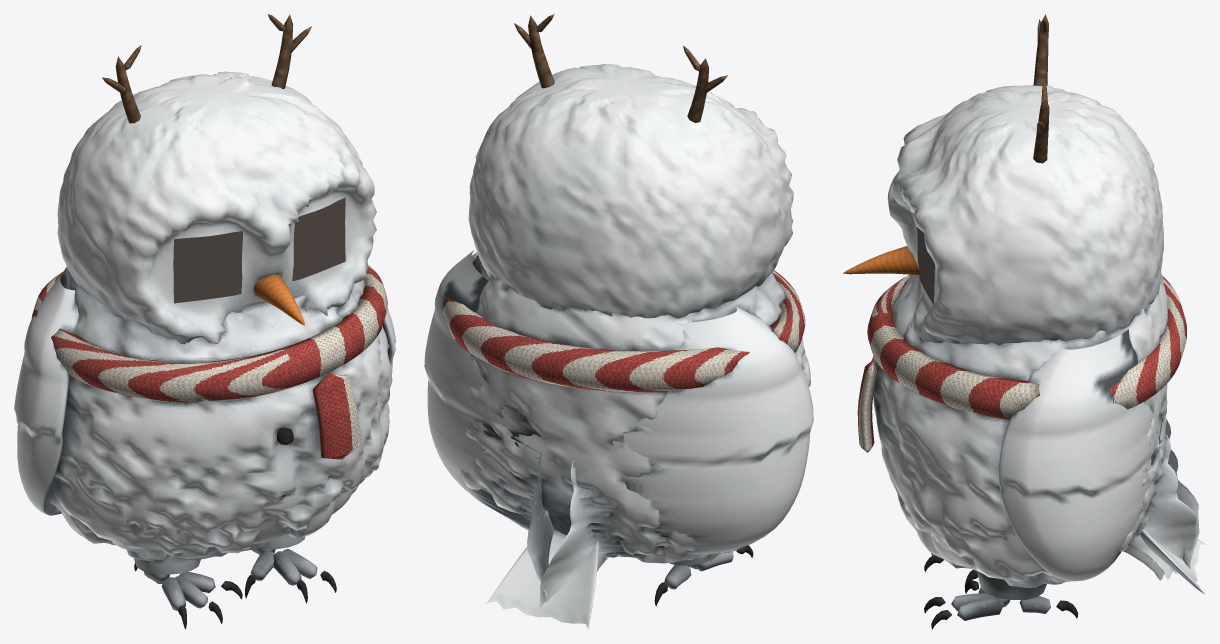
The model's file is snowman.glb.
3 renders of one model, left to right at view 1: azimuth 30°, elevation 25°; view 2: azimuth 150°, elevation 25°; view 3: azimuth 270°, elevation 25°, orthographic.
Parts seen in each view (by area): view 1: head_mesh, body_mesh, scarf_mesh, wing_l_mesh, eye_l, eye_r, scarf_end_mesh, beak_mesh, leg_l_mesh, tuft_ra_mesh, tuft_la_mesh, leg_rt1_mesh (+2 smaller); view 2: head_mesh, wing_l_mesh, body_mesh, scarf_mesh, wing_r_mesh, tail_mesh, tuft_ra_mesh, tuft_la_mesh; view 3: head_mesh, wing_r_mesh, body_mesh, scarf_mesh, beak_mesh, scarf_end_mesh, tail_mesh, leg_r_mesh, wing_l_mesh, eye_r, leg_rt0_mesh, tuft_la_mesh (+1 smaller).
Boxes of the visible parts, box(x1,y1,x2,y2) form: head_mesh: box(57, 71, 376, 344); body_mesh: box(46, 266, 392, 562); scarf_mesh: box(31, 265, 387, 402); wing_l_mesh: box(14, 272, 79, 515); eye_l: box(173, 231, 242, 303); eye_r: box(292, 197, 345, 281); scarf_end_mesh: box(312, 373, 361, 459); beak_mesh: box(253, 274, 305, 325); leg_l_mesh: box(134, 555, 200, 574); tuft_ra_mesh: box(271, 14, 293, 88); tuft_la_mesh: box(115, 56, 140, 123); leg_rt1_mesh: box(273, 551, 301, 585); head_mesh: box(468, 64, 793, 318); wing_l_mesh: box(540, 306, 813, 607); body_mesh: box(460, 255, 810, 563); scarf_mesh: box(442, 252, 805, 392); wing_r_mesh: box(424, 250, 554, 602); tail_mesh: box(486, 529, 598, 629); tuft_ra_mesh: box(528, 15, 554, 88); tuft_la_mesh: box(687, 58, 708, 122); head_mesh: box(887, 85, 1163, 345); wing_r_mesh: box(999, 329, 1196, 581); body_mesh: box(871, 272, 1168, 587); scarf_mesh: box(867, 275, 1186, 419); beak_mesh: box(843, 246, 919, 274); scarf_end_mesh: box(857, 360, 877, 452); tail_mesh: box(1140, 529, 1204, 593); leg_r_mesh: box(977, 572, 1046, 599); wing_l_mesh: box(1165, 419, 1199, 568); eye_r: box(917, 227, 934, 304); leg_rt0_mesh: box(957, 596, 1004, 620); tuft_la_mesh: box(1033, 14, 1048, 85).
Bounding box in the file's own units: 32.92 × 46.81 × 28.34.
Materials: 2 (1 with a texture image).
